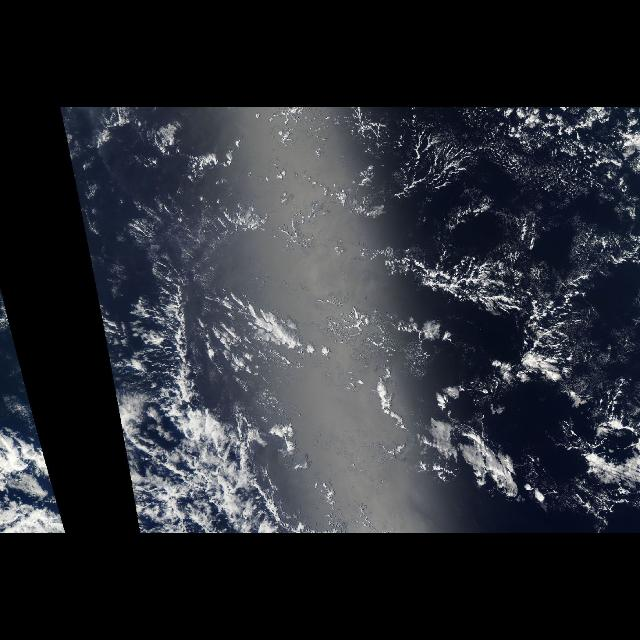Fish: (90, 262, 318, 534)
